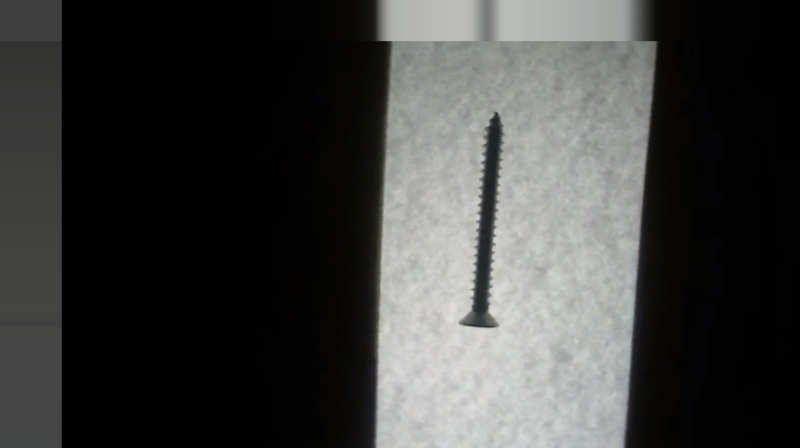S002: (454, 108, 507, 332)
